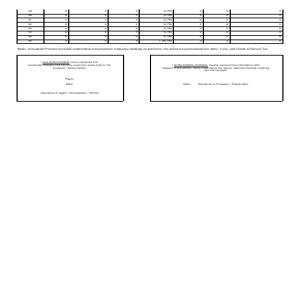table: (16, 7, 283, 43)
text: (16, 46, 269, 52), (161, 62, 271, 73), (27, 60, 113, 69), (183, 81, 251, 87), (39, 90, 100, 95), (65, 77, 77, 86)
